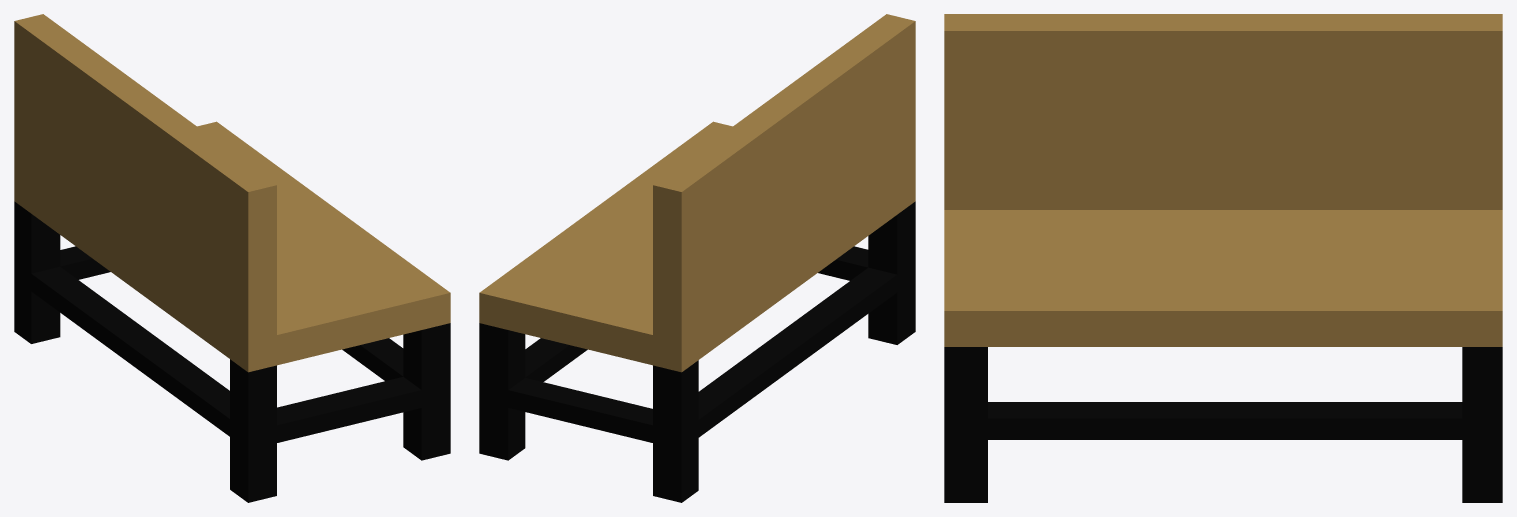
Rendered from bench.glb.
3 views of the same model, side by side, from view 1: azimuth 30°, elevation 25°; view 2: azimuth 150°, elevation 25°; view 3: azimuth 270°, elevation 25° (orthographic). The views are drawn at different scales.
Visible parts, largest first — view 1: Cube; view 2: Cube; view 3: Cube.
Boxes of the visible parts, bbox=[...] form: Cube: bbox=[14, 14, 450, 502]; Cube: bbox=[479, 14, 915, 502]; Cube: bbox=[944, 14, 1502, 502].
Size of the model in its own units: 3.13 by 4.6 by 6.27.
